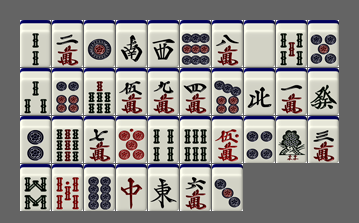0m: (212, 116, 243, 163)
0p: (116, 116, 147, 163)
0s: (52, 164, 83, 211)
1m: (276, 68, 307, 115)
1p: (84, 20, 115, 67)
1s: (276, 116, 307, 163)
1z: (148, 164, 179, 211)
2m: (52, 20, 83, 67)
2p: (20, 116, 51, 163)
2s: (20, 20, 51, 67)
2z: (116, 20, 147, 67)
3m: (308, 116, 339, 163)
3p: (212, 164, 243, 211)
3s: (20, 68, 51, 115)
3z: (148, 20, 179, 67)
4m: (180, 68, 211, 115)
4p: (244, 116, 275, 163)
4s: (148, 116, 179, 163)
4z: (244, 68, 275, 115)
5m: (116, 68, 147, 115)
5p: (308, 20, 339, 67)
5s: (276, 20, 307, 67)
5z: (244, 20, 275, 67)
6m: (180, 164, 211, 211)
6p: (52, 68, 83, 115)
6s: (180, 116, 211, 163)
6z: (308, 68, 339, 115)
7m: (84, 116, 115, 163)
7p: (212, 68, 243, 115)
7s: (84, 68, 115, 115)
7z: (116, 164, 147, 211)
8m: (212, 20, 243, 67)
8p: (84, 164, 115, 211)
8s: (20, 164, 51, 211)
9m: (148, 68, 179, 115)
9p: (180, 20, 211, 67)
9s: (52, 116, 83, 163)
